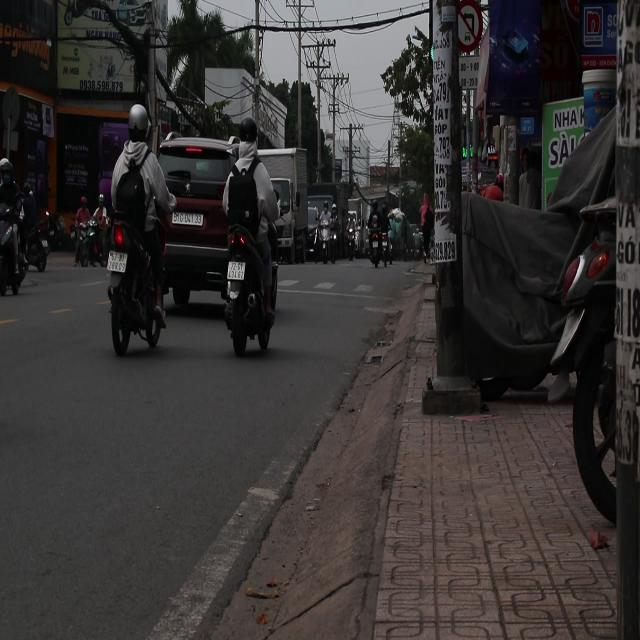car: (158, 136, 238, 312)
motorbike: (105, 209, 171, 356), (222, 222, 274, 378), (1, 197, 30, 298), (23, 212, 52, 273), (72, 220, 100, 268), (366, 220, 391, 270), (50, 213, 68, 250)
truck: (258, 148, 301, 248)
